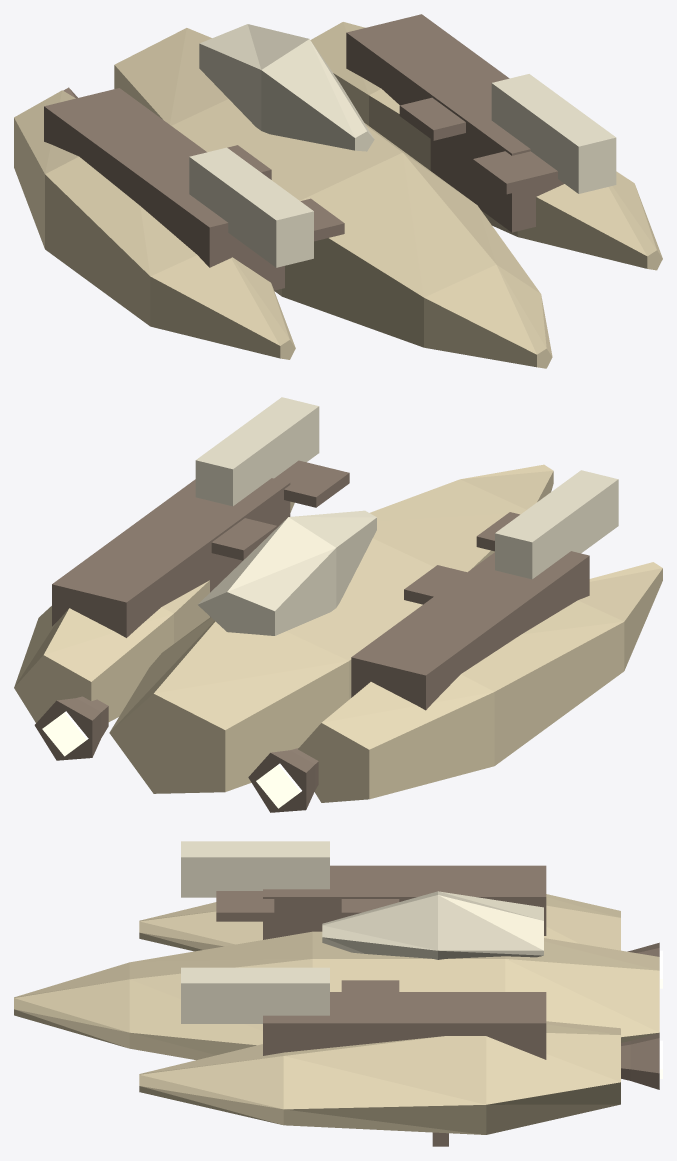
The picture shows the model from 3 angles, top to bottom: view 1: azimuth 30°, elevation 25°; view 2: azimuth 150°, elevation 25°; view 3: azimuth 270°, elevation 25°; orthographic projection. The views are drawn at different scales.
Bounding box in the file's own units: 12.84 × 5.36 × 17.41.
